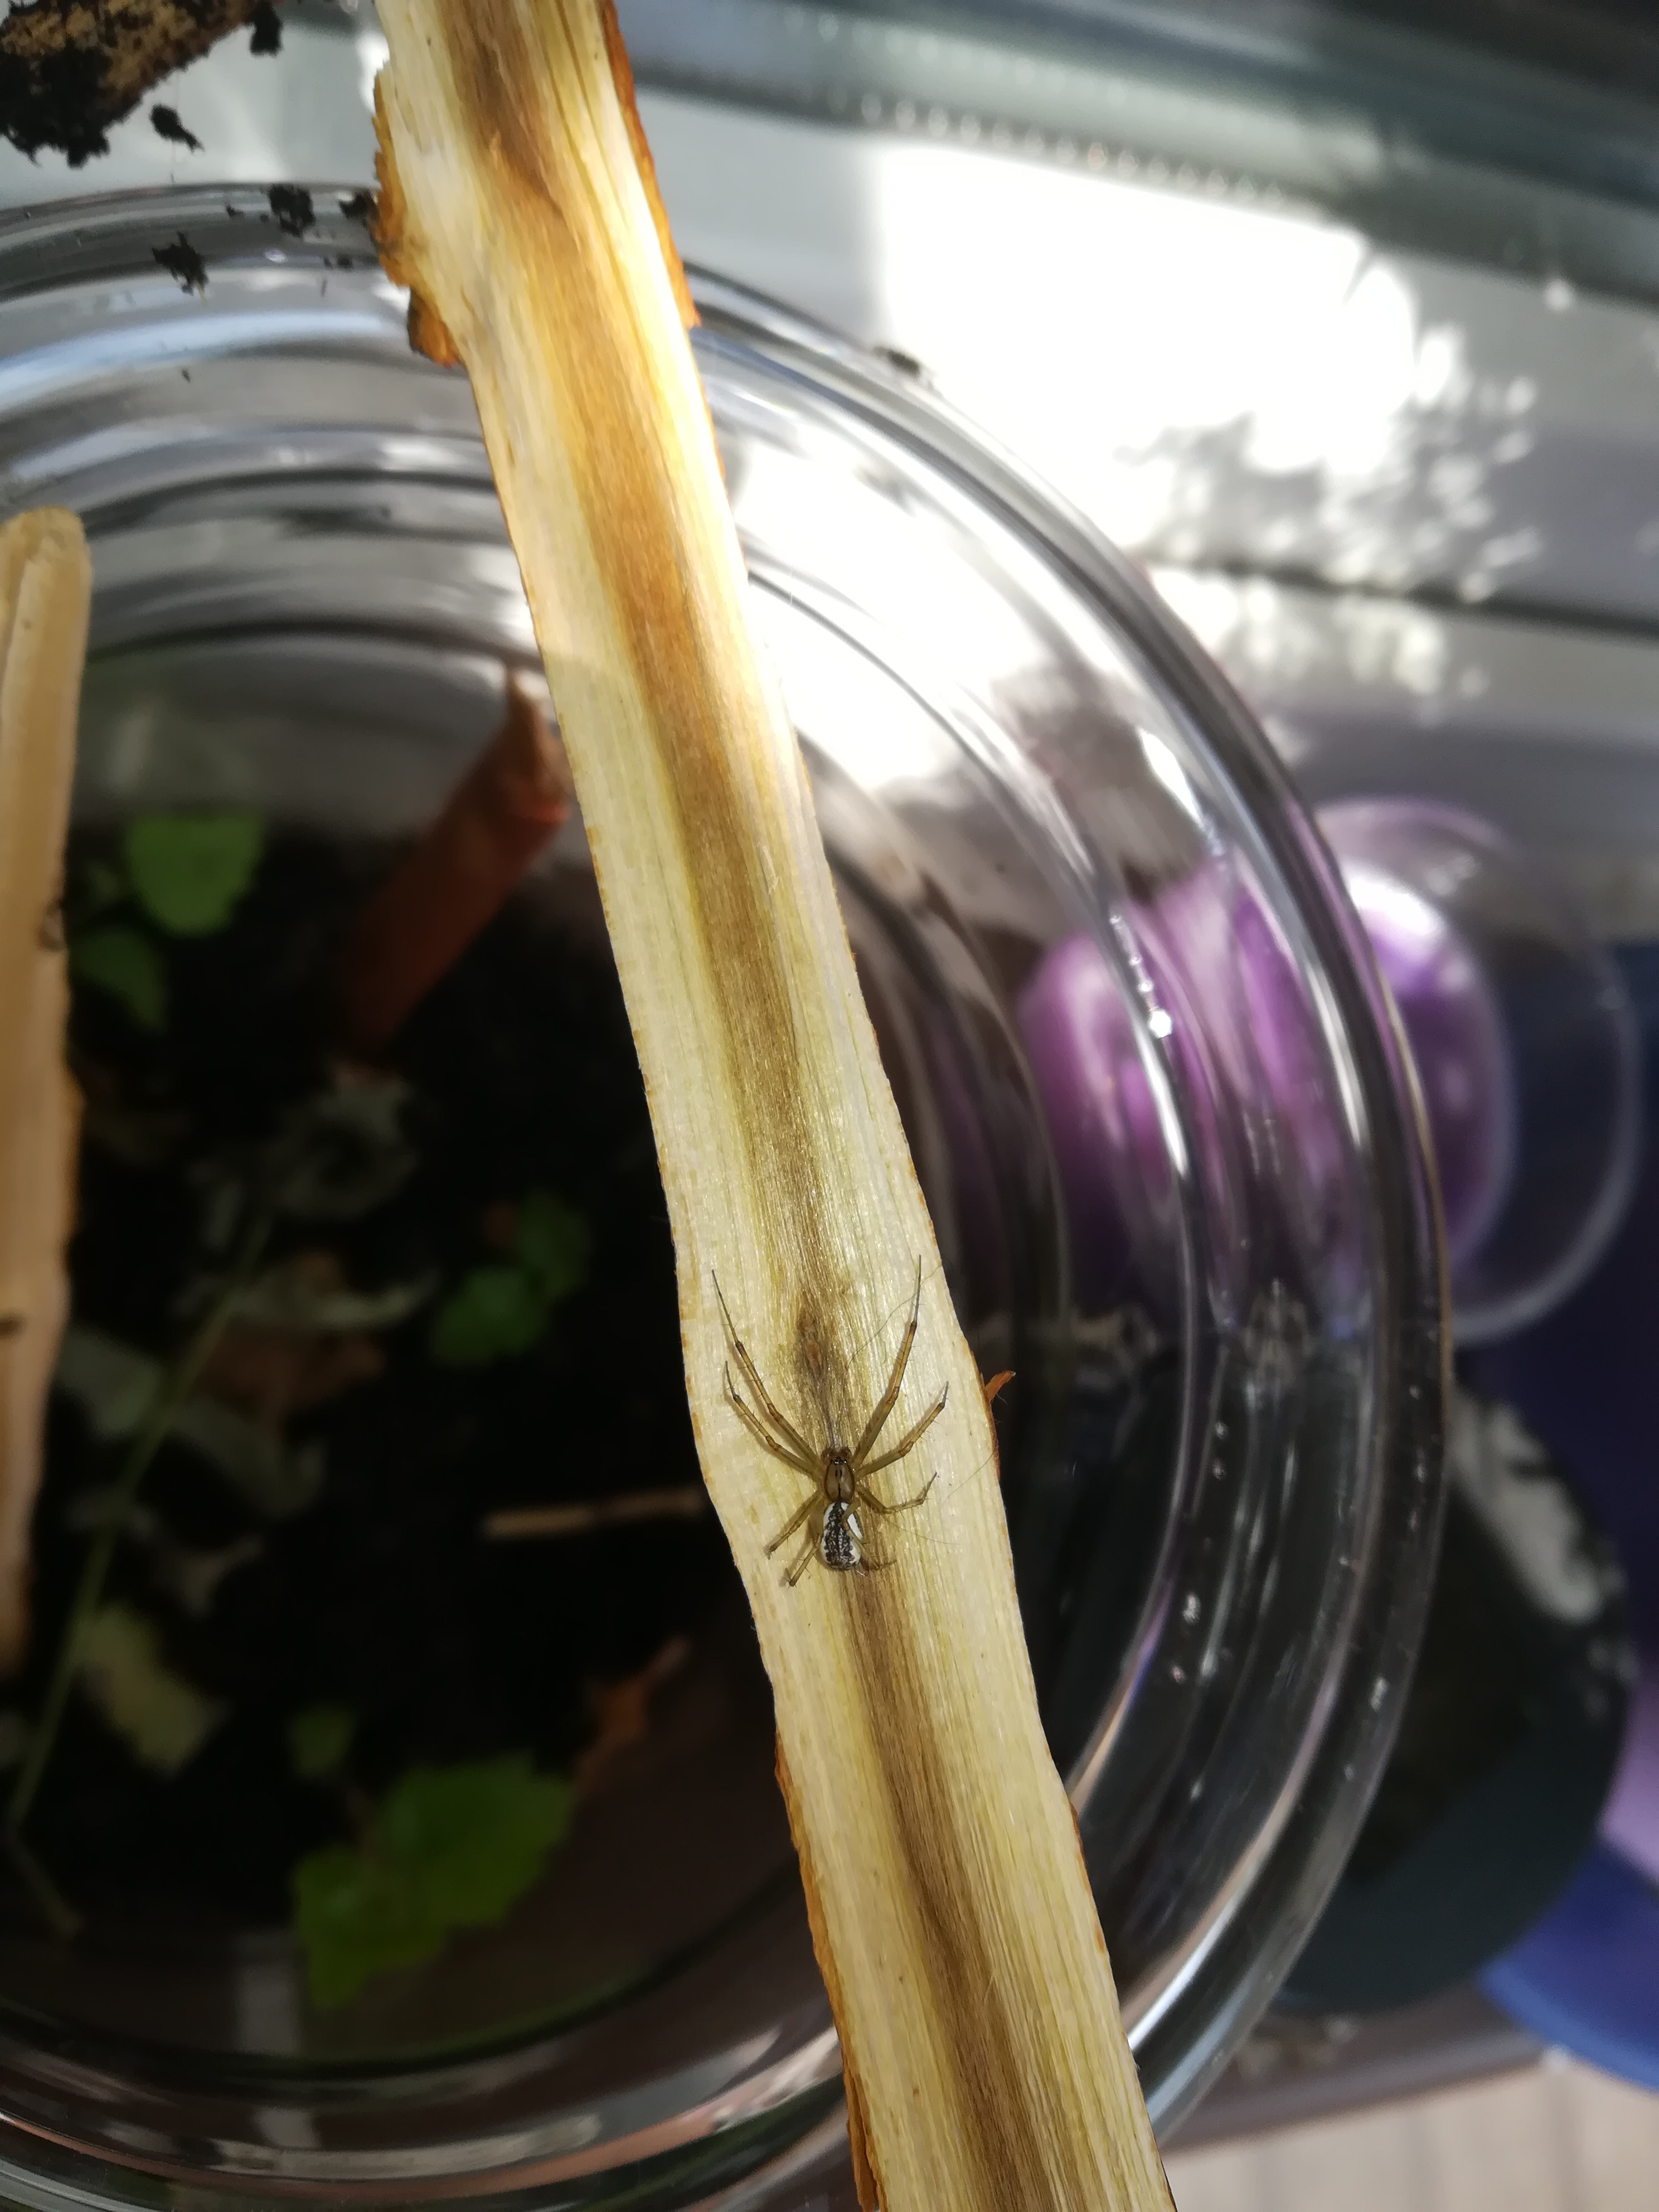spider: (627, 1256, 1028, 1656)
